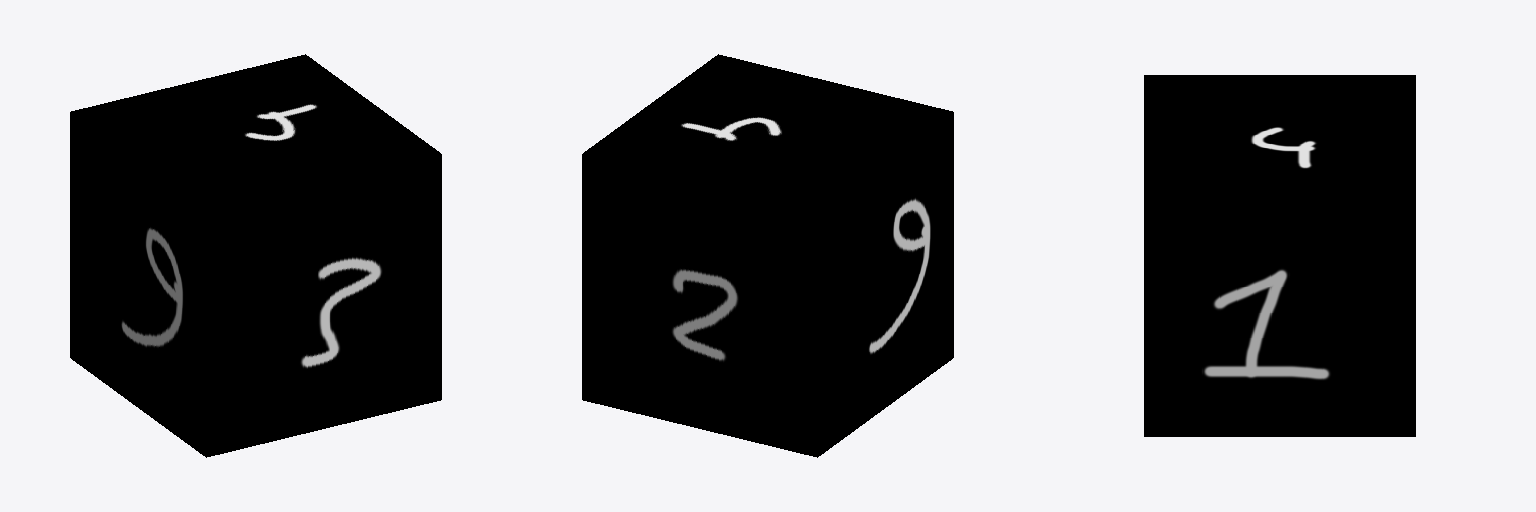
3 views of the same model, side by side, from view 1: azimuth 30°, elevation 25°; view 2: azimuth 150°, elevation 25°; view 3: azimuth 270°, elevation 25° (orthographic).
Visible parts, largest first — view 1: Cube; view 2: Cube; view 3: Cube.
Part boxes in pixels (left/top/right/bottom): Cube: left=70, top=54, right=441, bottom=457; Cube: left=582, top=54, right=953, bottom=457; Cube: left=1144, top=75, right=1415, bottom=436.
Size of the model in its own units: 2 by 2 by 2.
1 materials, 1 textured.